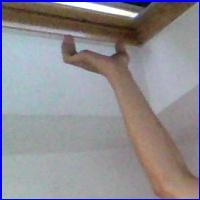space: (54, 33, 140, 78)
